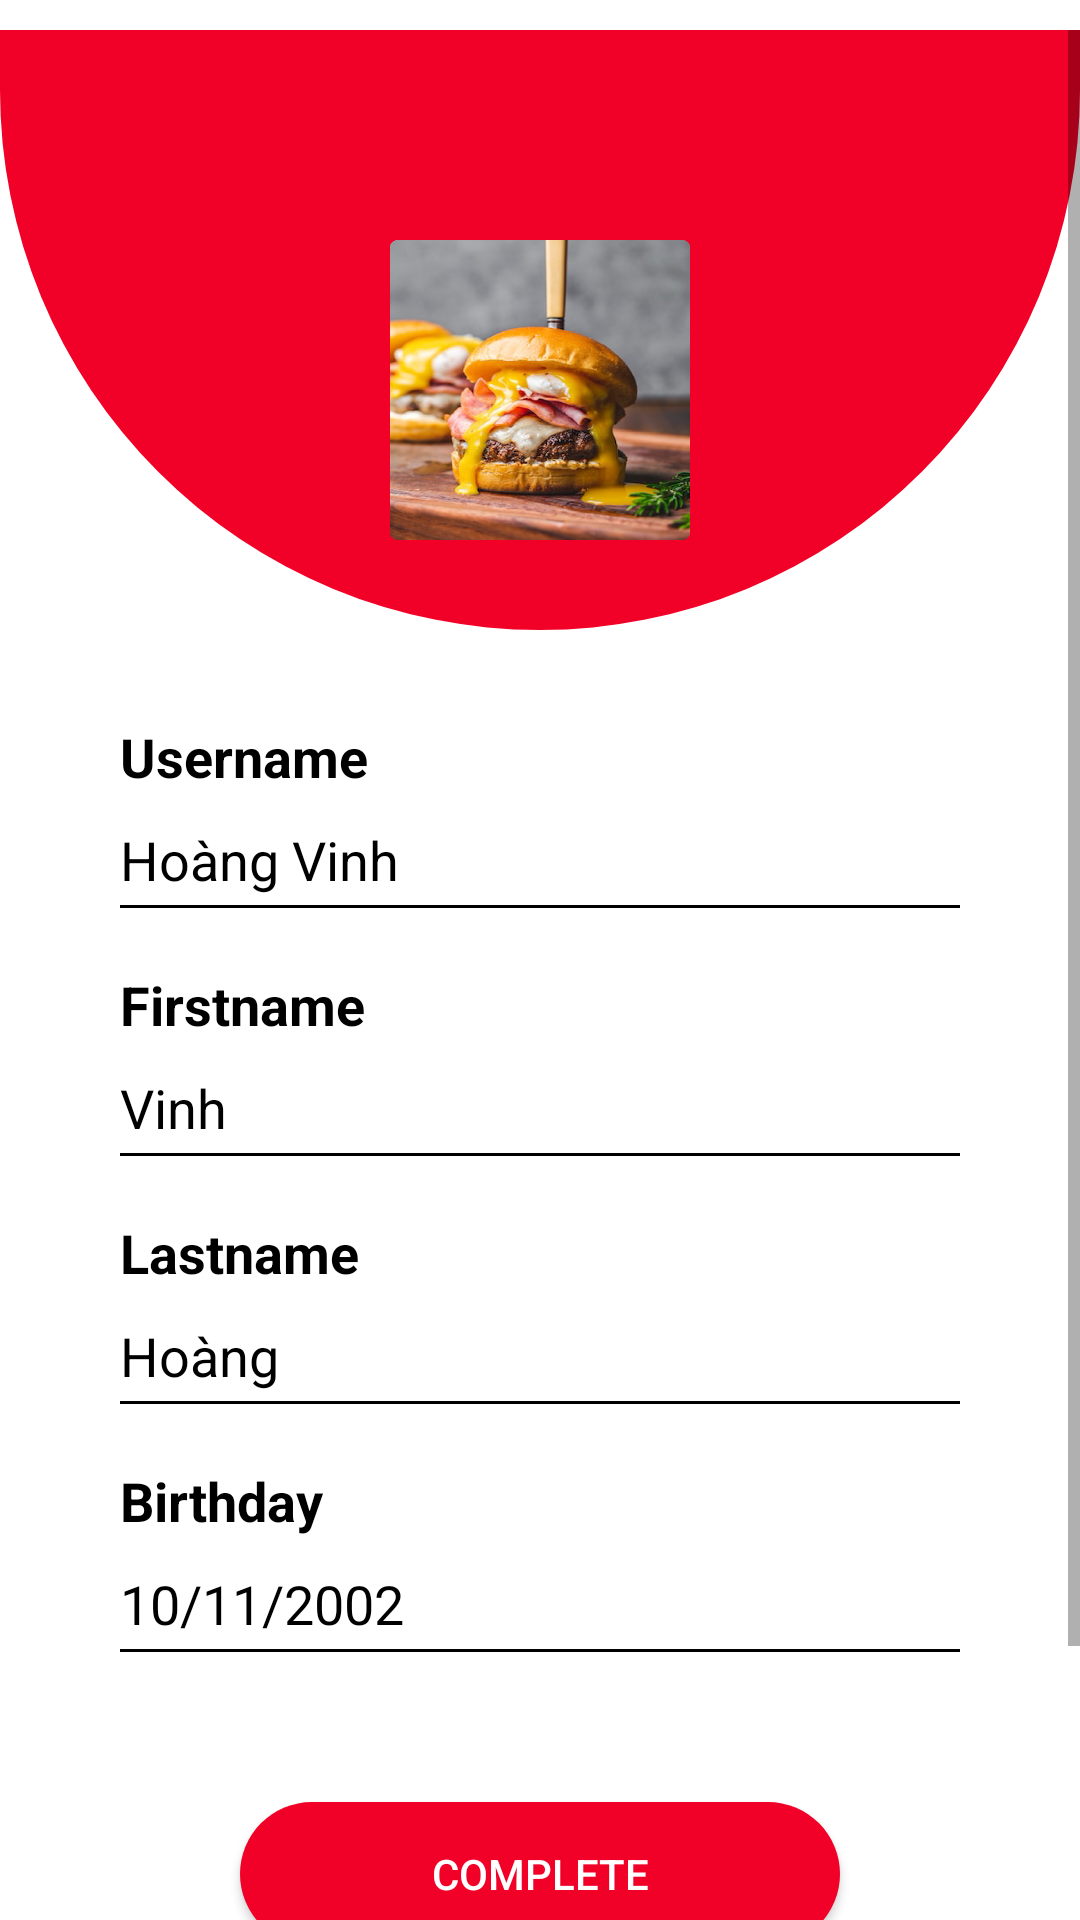

Screen size 1080 × 1920. Icon name, then its center in pixels as (x,y):
food: (540,390)
